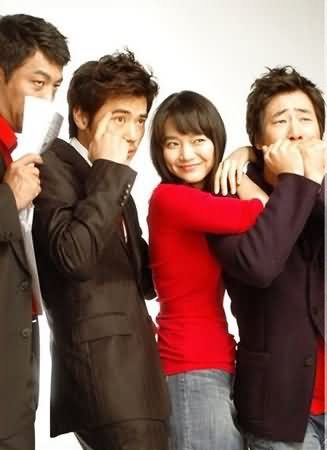face: (5, 52, 64, 131), (263, 90, 320, 168), (92, 92, 146, 165), (164, 117, 213, 182)
